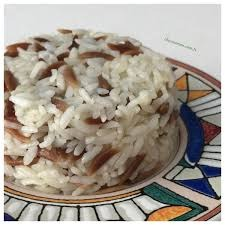pirinc_pilavi: (4, 29, 178, 195)
